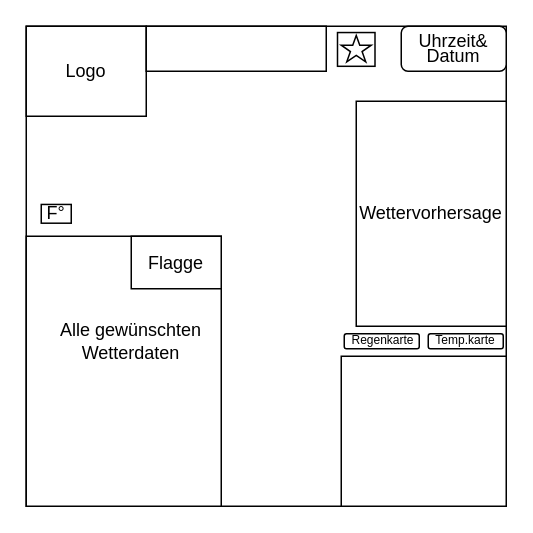
Image size: 533x533. Some labels were removed from this diagram. Here are the shapes that lost their labels. From the top down, the centre of each, then its label:
At (x=235, y=48): "Suche nach einem Ort".
At (x=423, y=430): "Karte".
